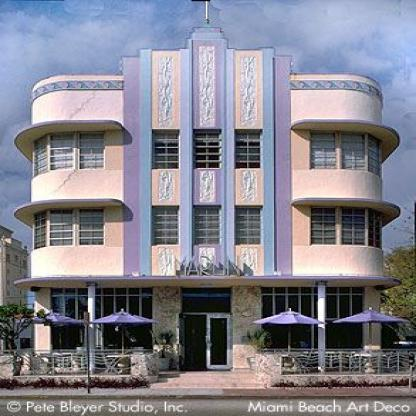Building Outline: (0, 1, 416, 388)
Deco: (199, 44, 216, 127), (240, 57, 256, 127), (158, 57, 173, 127), (199, 170, 216, 204), (241, 170, 257, 204), (158, 170, 173, 205), (199, 246, 216, 276), (241, 246, 257, 276), (158, 246, 173, 276)
Facade: (0, 1, 416, 388)
Molding: (290, 80, 383, 108), (31, 80, 124, 103)
Pillar: (180, 22, 236, 276), (122, 49, 152, 276), (263, 47, 292, 276), (318, 282, 325, 375), (88, 282, 95, 375)
Window: (261, 288, 362, 372), (51, 288, 152, 372), (311, 131, 382, 177), (33, 133, 104, 178), (33, 208, 105, 250), (311, 208, 382, 249), (182, 288, 231, 313), (193, 208, 222, 245), (193, 132, 222, 169), (153, 132, 179, 169), (153, 208, 179, 245), (236, 132, 261, 169), (236, 208, 261, 245)
